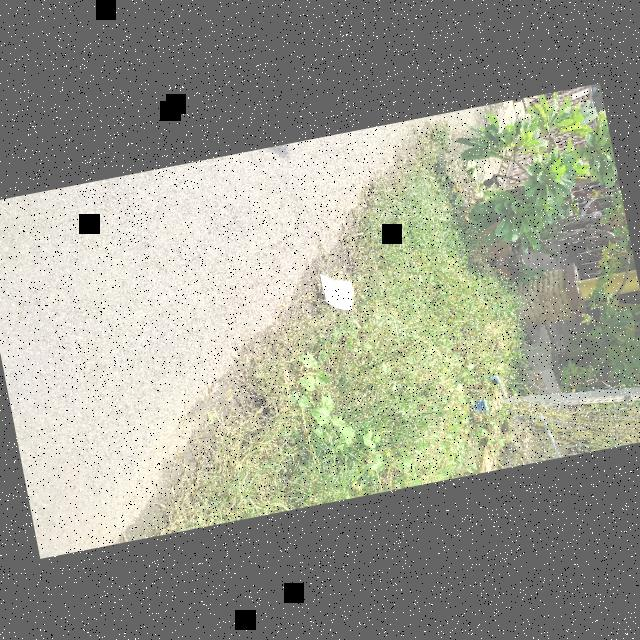scrap_paper: (316, 263, 362, 319)
